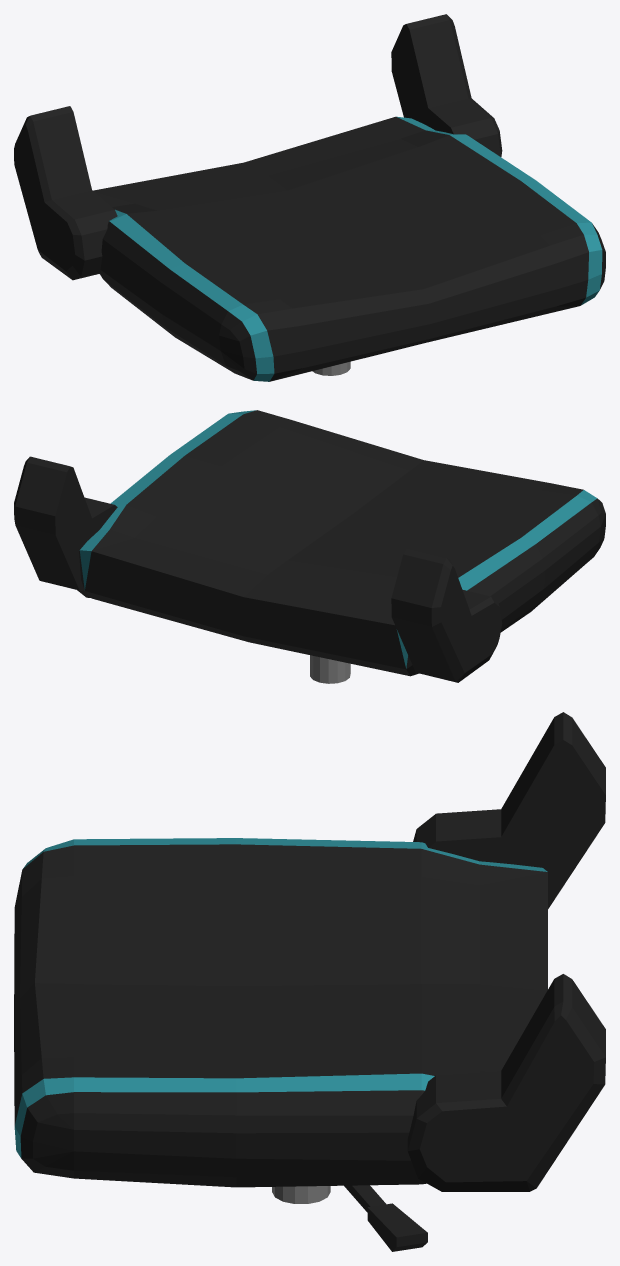
Rendered from Gaming_Chair_Seat_Base_1.obj.
3 renders of one model, top to bottom at view 1: azimuth 30°, elevation 25°; view 2: azimuth 150°, elevation 25°; view 3: azimuth 270°, elevation 25°, orthographic. The views are drawn at different scales.
Parts seen in each view (by area): view 1: Gaming_Chair_Seat_Base_1; view 2: Gaming_Chair_Seat_Base_1; view 3: Gaming_Chair_Seat_Base_1.
Part boxes in pixels (box(x1,y1,x2,y2)): Gaming_Chair_Seat_Base_1: box(14, 14, 605, 381); Gaming_Chair_Seat_Base_1: box(14, 410, 605, 683); Gaming_Chair_Seat_Base_1: box(14, 712, 605, 1251).
Bounding box in the file's own units: 0.6327 × 0.3309 × 0.5295.
